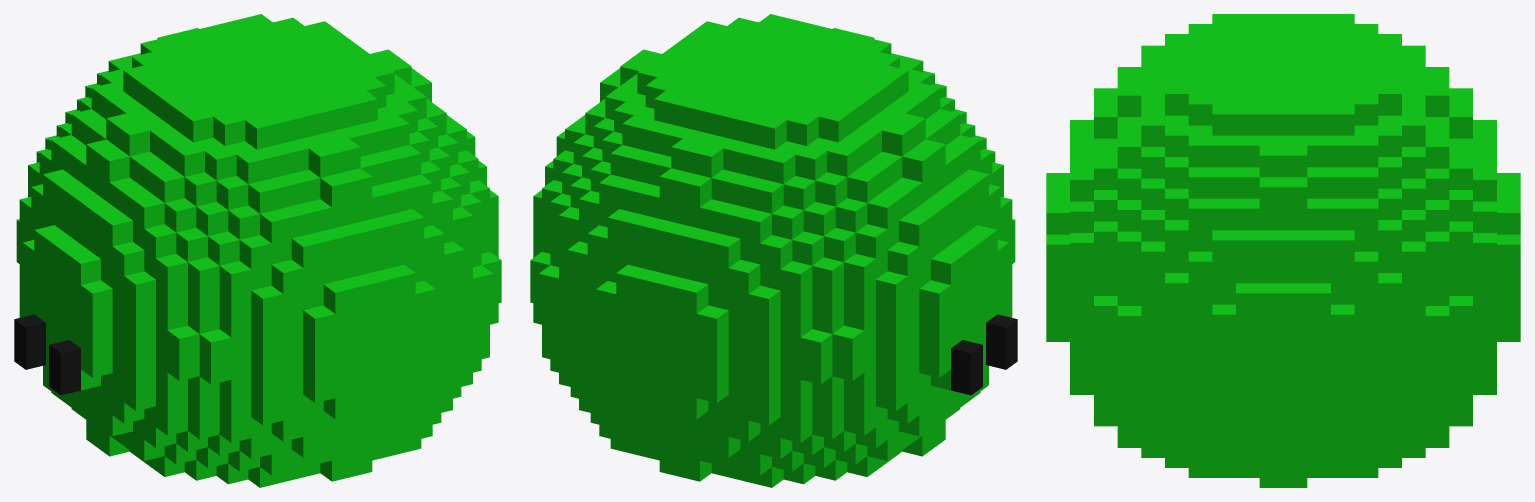
Rendered from slime1.obj.
3 renders of one model, left to right at view 1: azimuth 30°, elevation 25°; view 2: azimuth 150°, elevation 25°; view 3: azimuth 270°, elevation 25°, orthographic.
Bounding box in the file's own units: 2.1 × 1.6 × 2.
1 material, 1 textured.
